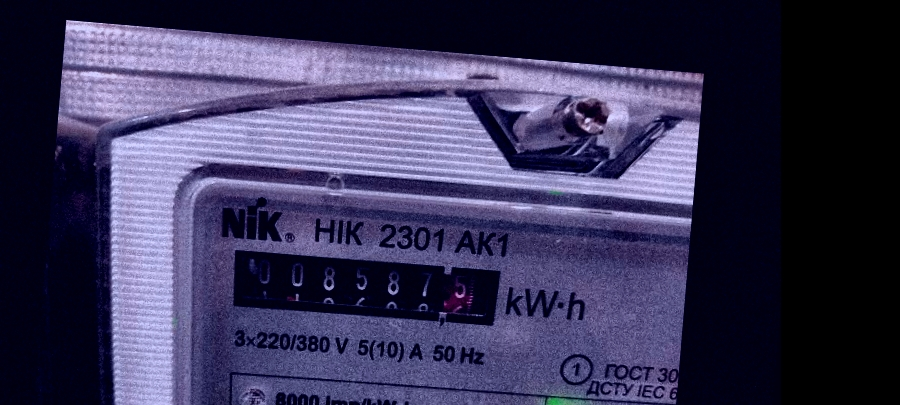0: (254, 255, 273, 285), (288, 259, 307, 288)
5: (451, 272, 471, 302), (352, 263, 371, 293)
7: (415, 268, 435, 299)
8: (383, 266, 403, 297), (320, 262, 338, 292)
screen: (211, 232, 519, 340)
